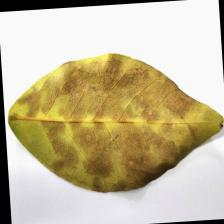canker: (52, 76, 154, 164)
